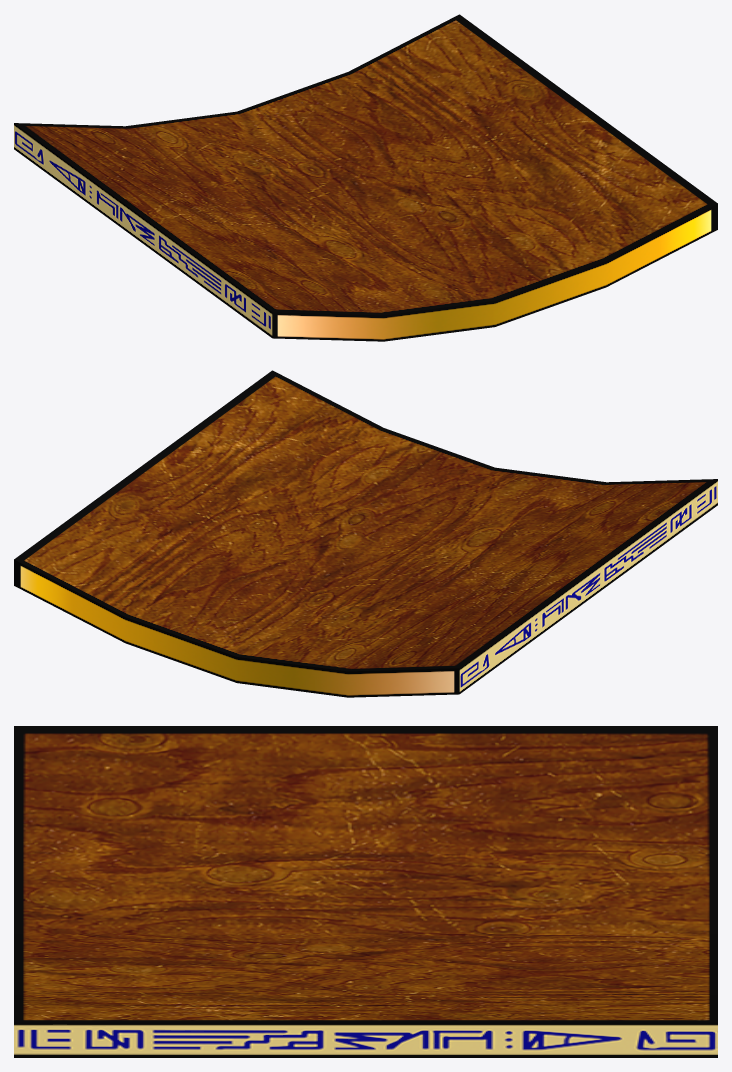
The model's file is jungle_floor_dpath.gltf.
3 renders of one model, top to bottom at view 1: azimuth 30°, elevation 25°; view 2: azimuth 150°, elevation 25°; view 3: azimuth 270°, elevation 25°, orthographic. The views are drawn at different scales.
Parts seen in each view (by area): view 1: jungle_floor_dpath_glb; view 2: jungle_floor_dpath_glb; view 3: jungle_floor_dpath_glb.
Boxes of the visible parts, box(x1,y1,x2,y2) form: jungle_floor_dpath_glb: box(14, 14, 717, 341); jungle_floor_dpath_glb: box(14, 370, 717, 697); jungle_floor_dpath_glb: box(14, 726, 717, 1057).
Size of what is drawn, in the model's own units: 3.98 by 0.591 by 4.
Materials: 1 (1 with a texture image).
